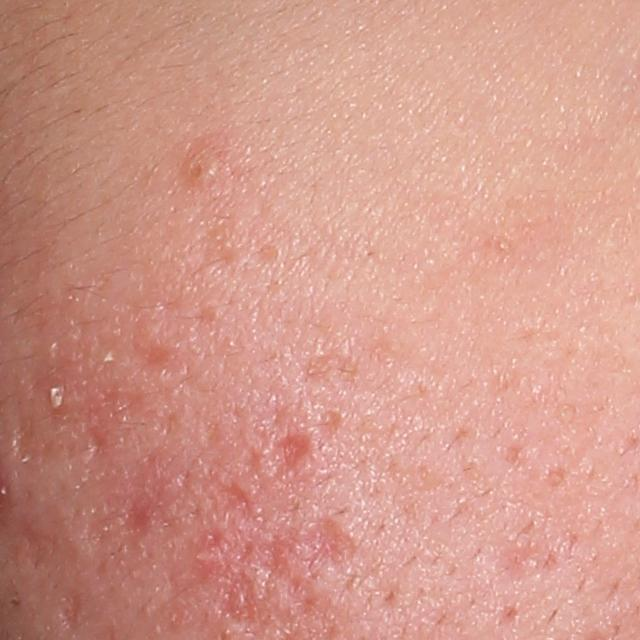atrophic_scar: (261, 432, 316, 486), (297, 520, 357, 569), (11, 401, 53, 463), (117, 488, 161, 538), (216, 572, 258, 622), (59, 590, 91, 632), (314, 409, 346, 446)
